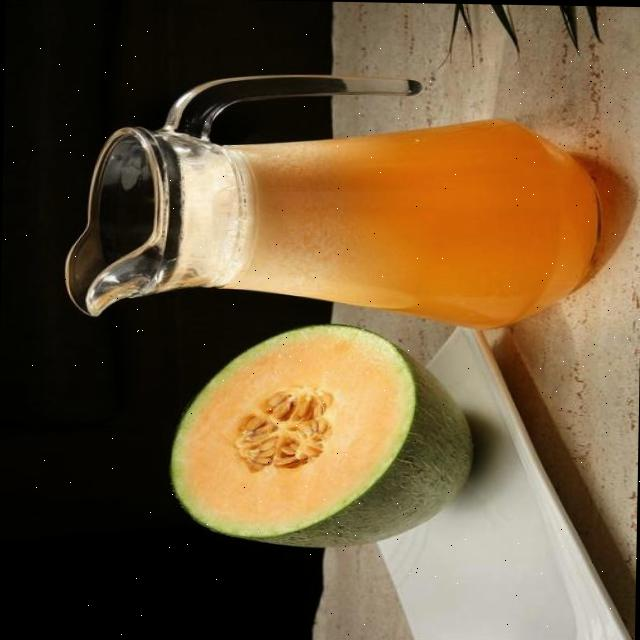Hami Melon: (167, 321, 476, 553)
